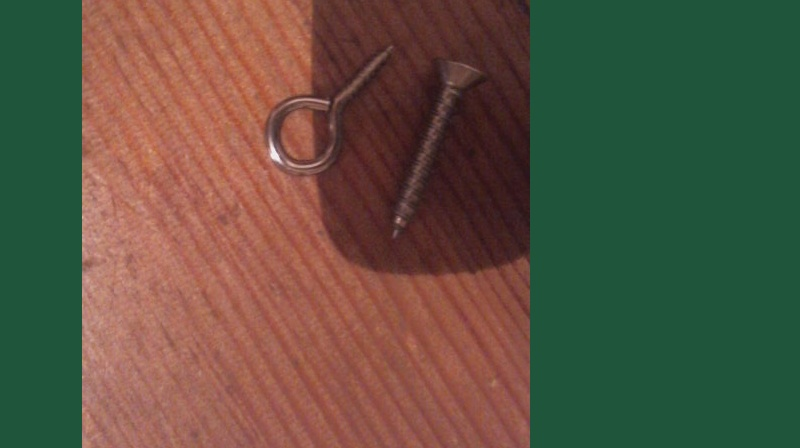O001: (263, 42, 398, 176)
S001: (388, 56, 488, 241)
